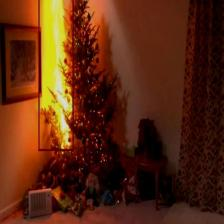fire: (38, 0, 74, 151)
